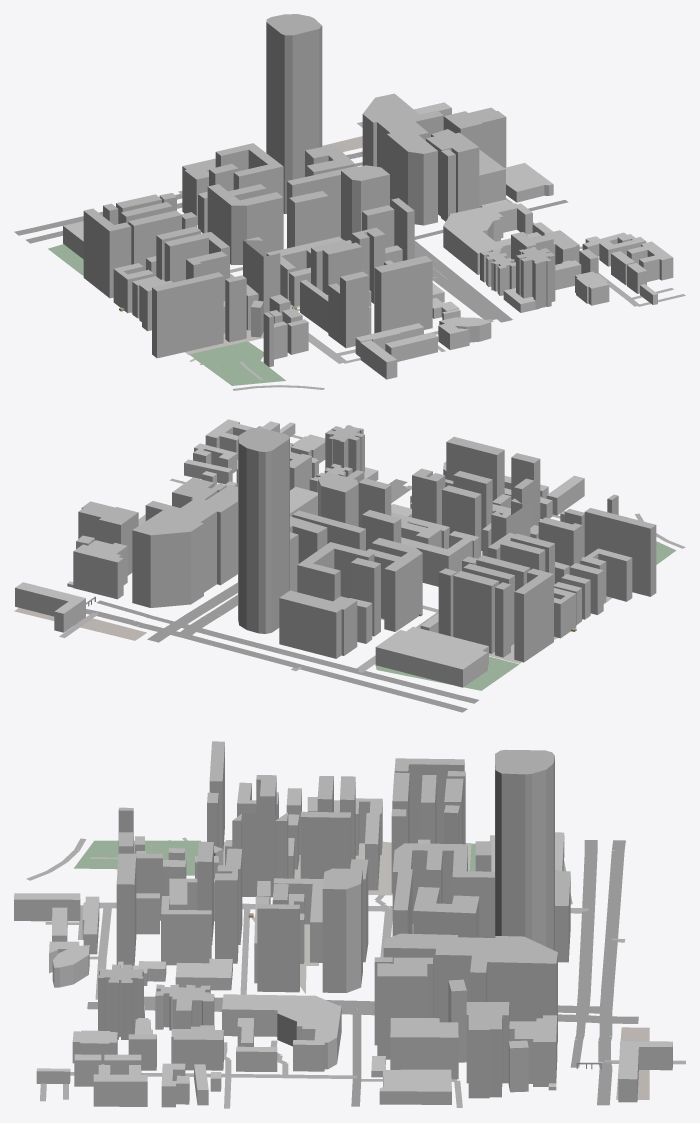
3 views of the same model, one above another, from view 1: azimuth 30°, elevation 25°; view 2: azimuth 150°, elevation 25°; view 3: azimuth 270°, elevation 25° (orthographic). The views are drawn at different scales.
Bounding box in the file's own units: 551 × 201 × 549.
